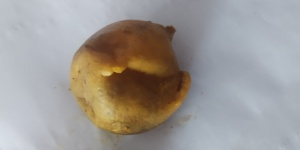BAD: (67, 20, 194, 136)
